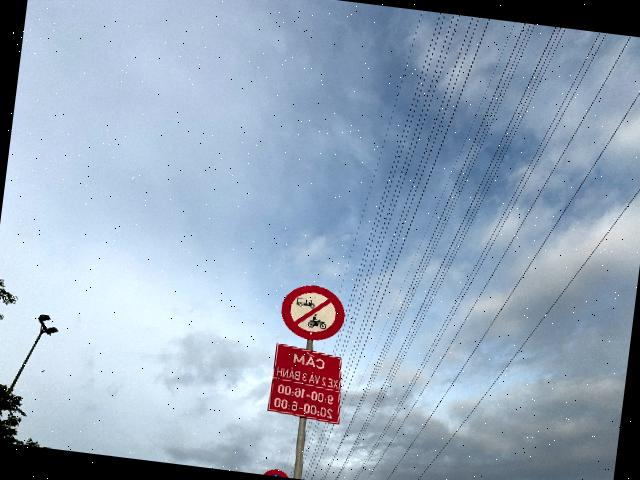cam-xe-2-banh-3-banh: (277, 281, 348, 344)
